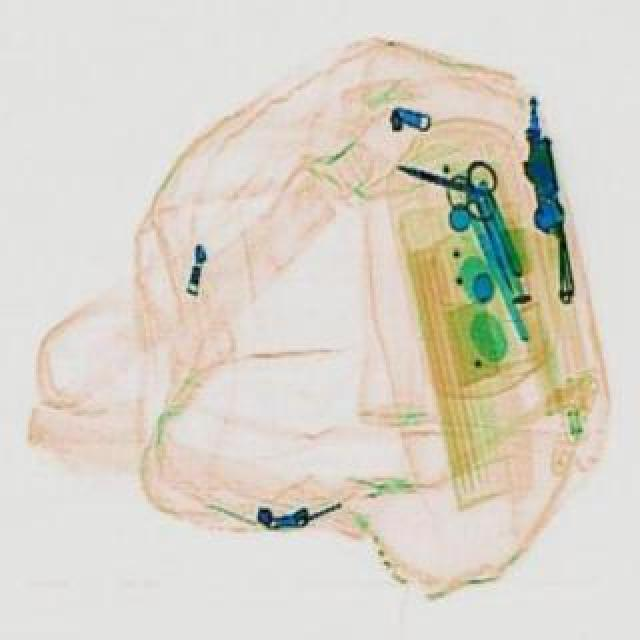wrench: (384, 136, 508, 220)
